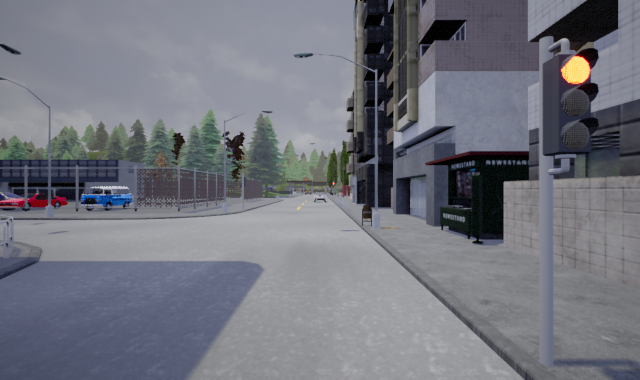vehicle: (79, 185, 133, 212), (1, 190, 68, 210), (312, 192, 328, 204)
